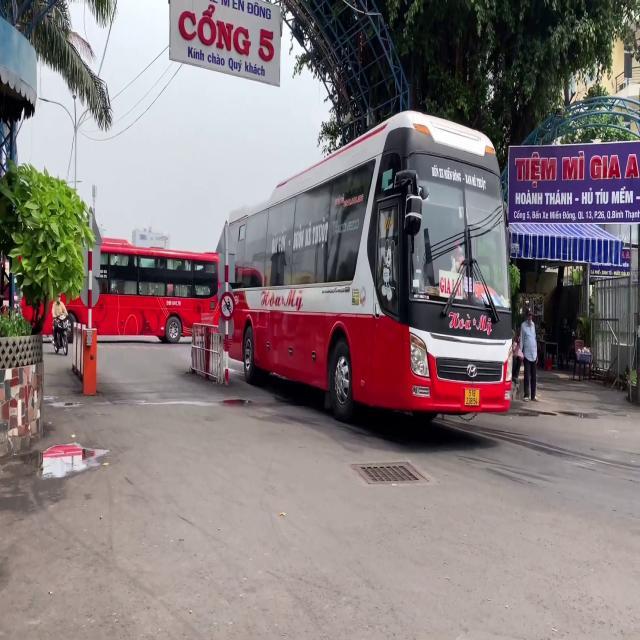bien_vang: (464, 388, 480, 406)
